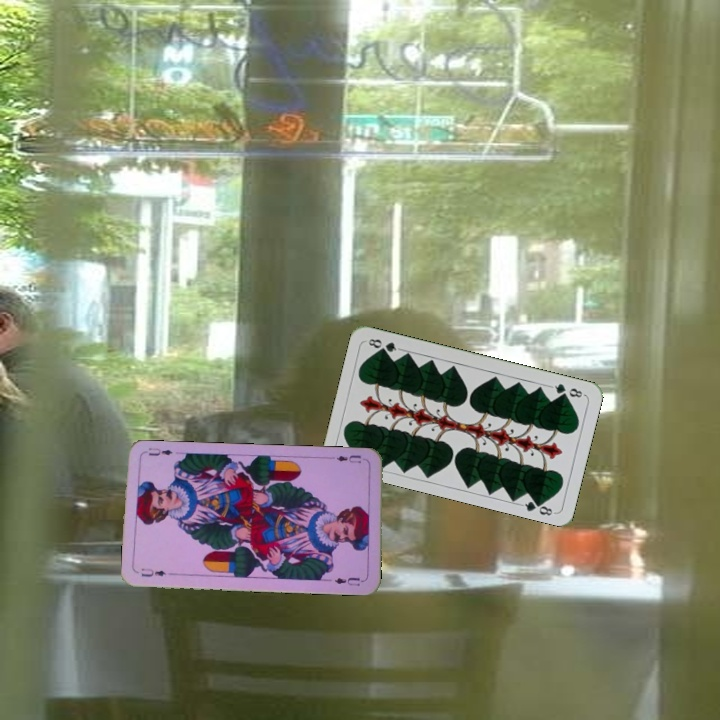EU: (137, 565, 176, 579), (328, 451, 363, 465)
G8: (547, 379, 587, 400)
